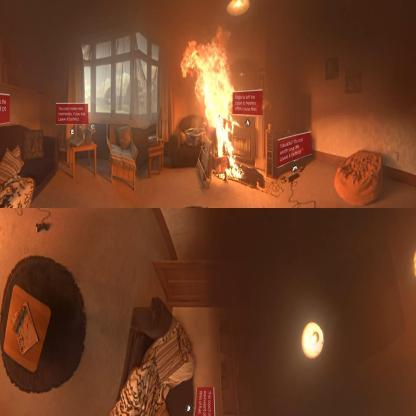fire: (181, 36, 244, 183)
